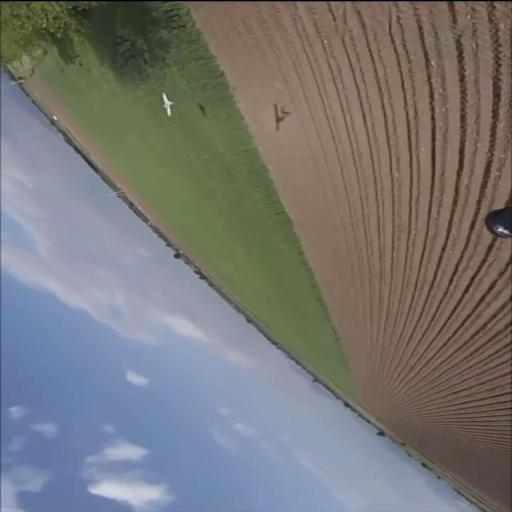uav: (161, 94, 173, 116)
